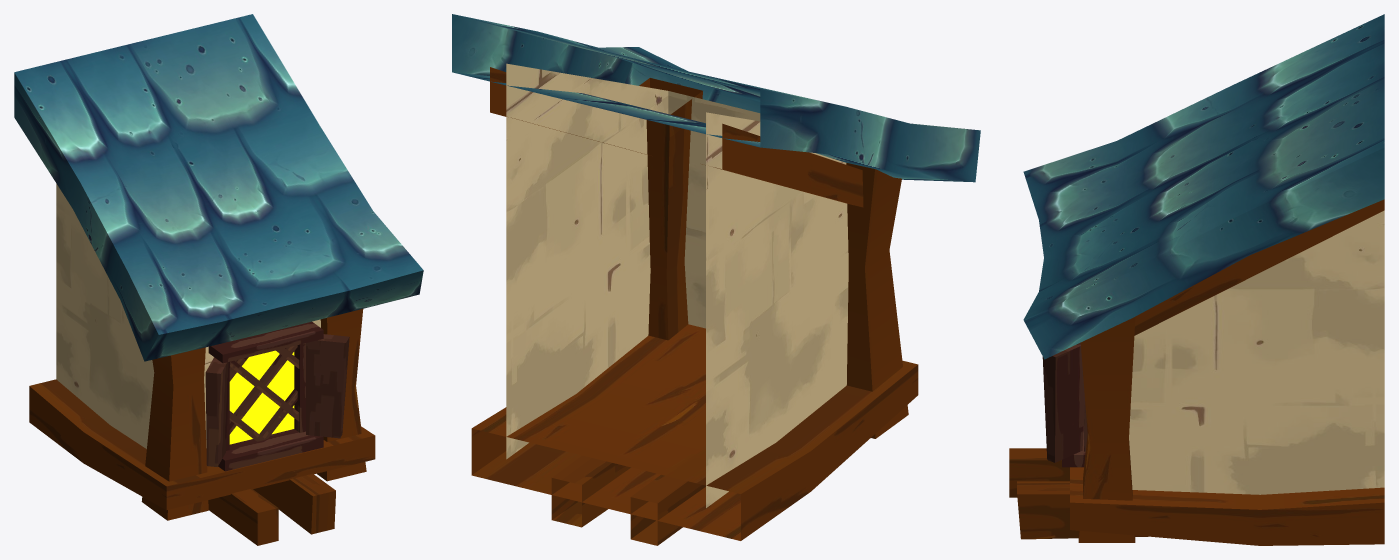
The model's file is SM_BLD_window_v02_01.glb.
3 views of the same model, side by side, from view 1: azimuth 30°, elevation 25°; view 2: azimuth 150°, elevation 25°; view 3: azimuth 270°, elevation 25° (orthographic). The views are drawn at different scales.
Parts seen in each view (by area): view 1: SM_BLD_window_v02_01_EXPORT; view 2: SM_BLD_window_v02_01_EXPORT; view 3: SM_BLD_window_v02_01_EXPORT.
Boxes of the visible parts, left/top/right/bottom form: SM_BLD_window_v02_01_EXPORT: left=14, top=14, right=423, bottom=545; SM_BLD_window_v02_01_EXPORT: left=452, top=14, right=980, bottom=545; SM_BLD_window_v02_01_EXPORT: left=1009, top=14, right=1384, bottom=545.
Bounding box in the file's own units: 2.15 × 2.83 × 2.22.
5 materials, 5 textured.
